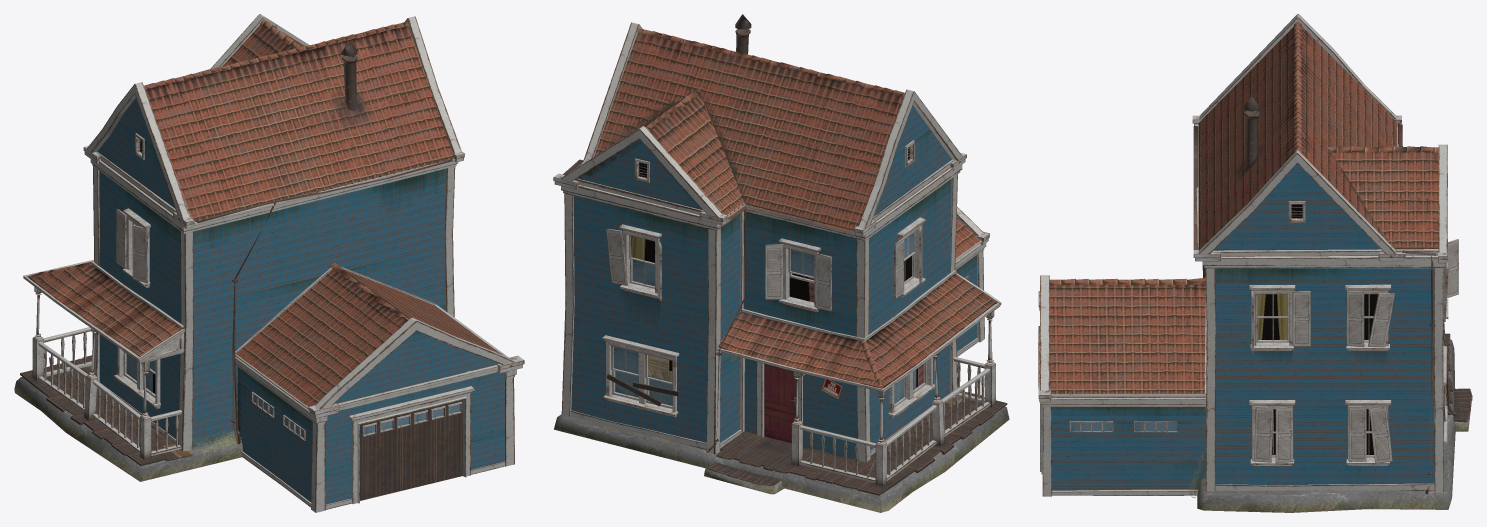
The model's file is garage-suburban-shabby-house.glb.
The picture shows the model from 3 angles, left to right: view 1: azimuth 30°, elevation 25°; view 2: azimuth 150°, elevation 25°; view 3: azimuth 270°, elevation 25°; orthographic projection.
Parts seen in each view (by area): view 1: Object_3, Object_4, Object_2; view 2: Object_3, Object_4, Object_2; view 3: Object_3, Object_4, Object_2.
Boxes of the visible parts, <box> form: Object_3: <box>14,14,524,512</box>; Object_4: <box>20,25,501,465</box>; Object_2: <box>29,90,426,457</box>; Object_3: <box>553,14,1009,512</box>; Object_4: <box>563,95,1007,495</box>; Object_2: <box>576,91,948,488</box>; Object_3: <box>1038,14,1471,512</box>; Object_4: <box>1049,124,1472,454</box>; Object_2: <box>1188,145,1387,497</box>.
Size of the model in its own units: 1595 by 1649 by 1736.
2 materials, 2 textured.
